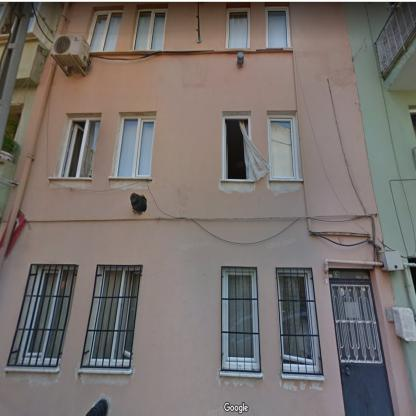door: (329, 269, 394, 415)
window: (16, 268, 78, 366), (88, 268, 141, 368), (277, 270, 320, 373), (223, 269, 259, 370), (115, 116, 155, 178), (58, 118, 100, 177), (268, 115, 298, 178), (223, 116, 251, 179), (88, 10, 122, 51), (134, 10, 166, 49), (226, 8, 250, 49), (266, 8, 290, 47)
